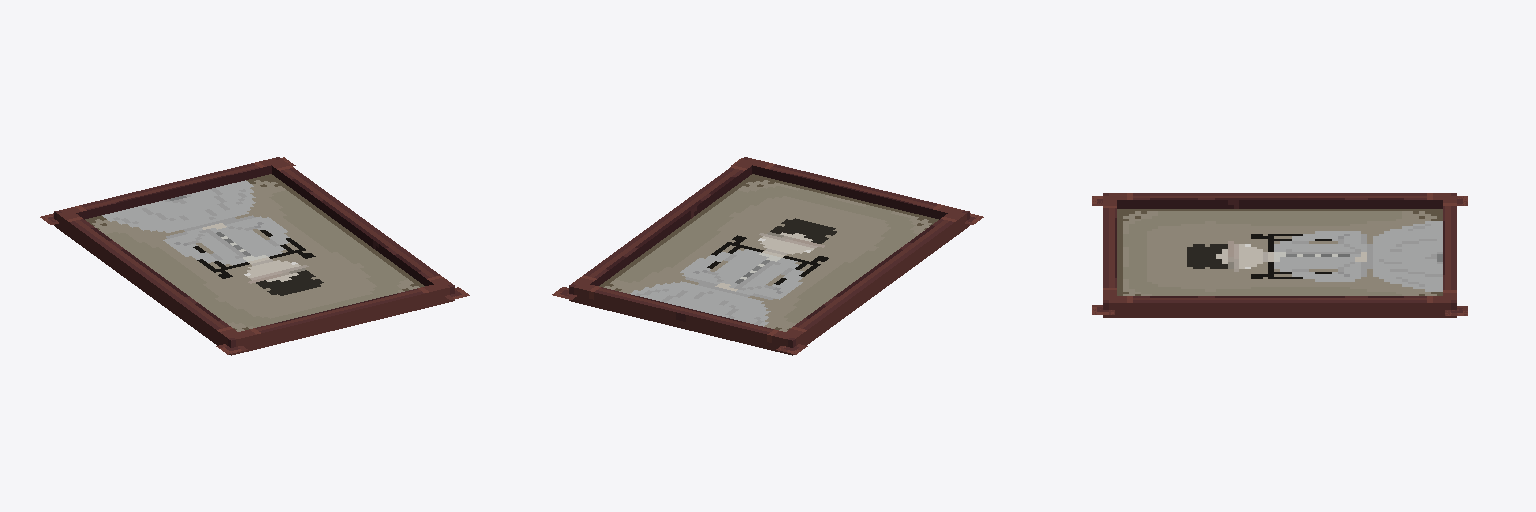
3 renders of one model, left to right at view 1: azimuth 30°, elevation 25°; view 2: azimuth 150°, elevation 25°; view 3: azimuth 270°, elevation 25°, orthographic.
Parts seen in each view (by area): view 1: cuboid; view 2: cuboid; view 3: cuboid, cube.
Boxes of the visible parts, x1,y1,x2,y2 form: cuboid: [54, 157, 454, 355]; cuboid: [569, 157, 969, 355]; cuboid: [1103, 193, 1456, 317]; cube: [1092, 196, 1467, 315].
Size of the model in its own units: 1.5 by 0.0875 by 2.
1 materials, 1 textured.